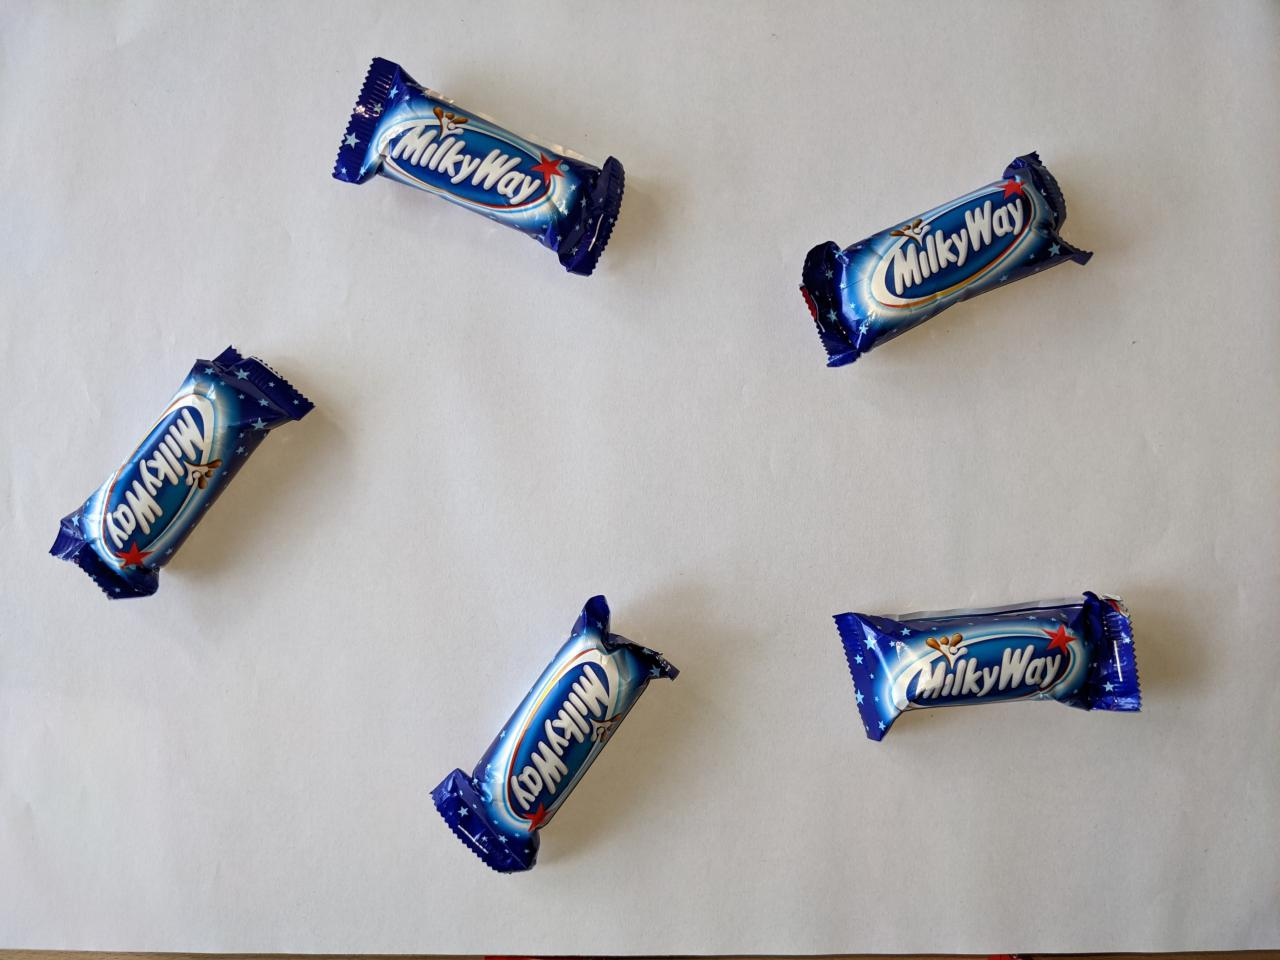MilkyWay: (422, 588, 687, 883), (42, 337, 324, 606), (788, 140, 1103, 377), (322, 49, 632, 281), (825, 583, 1148, 748)
